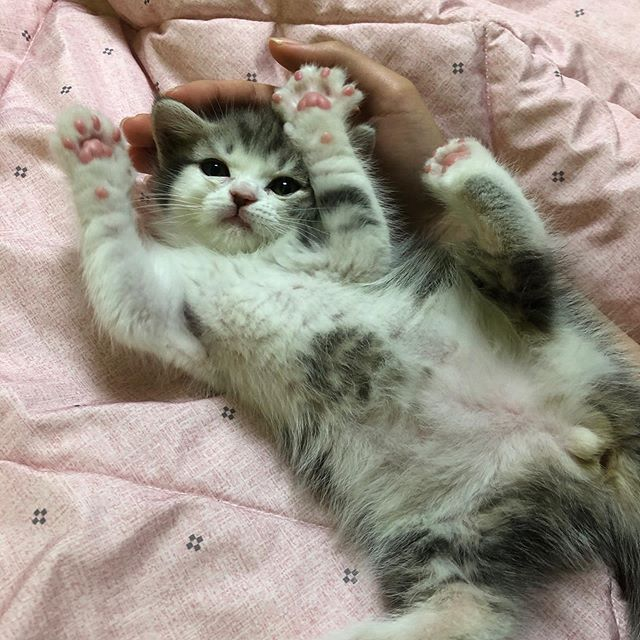cat: (137, 96, 375, 271)
